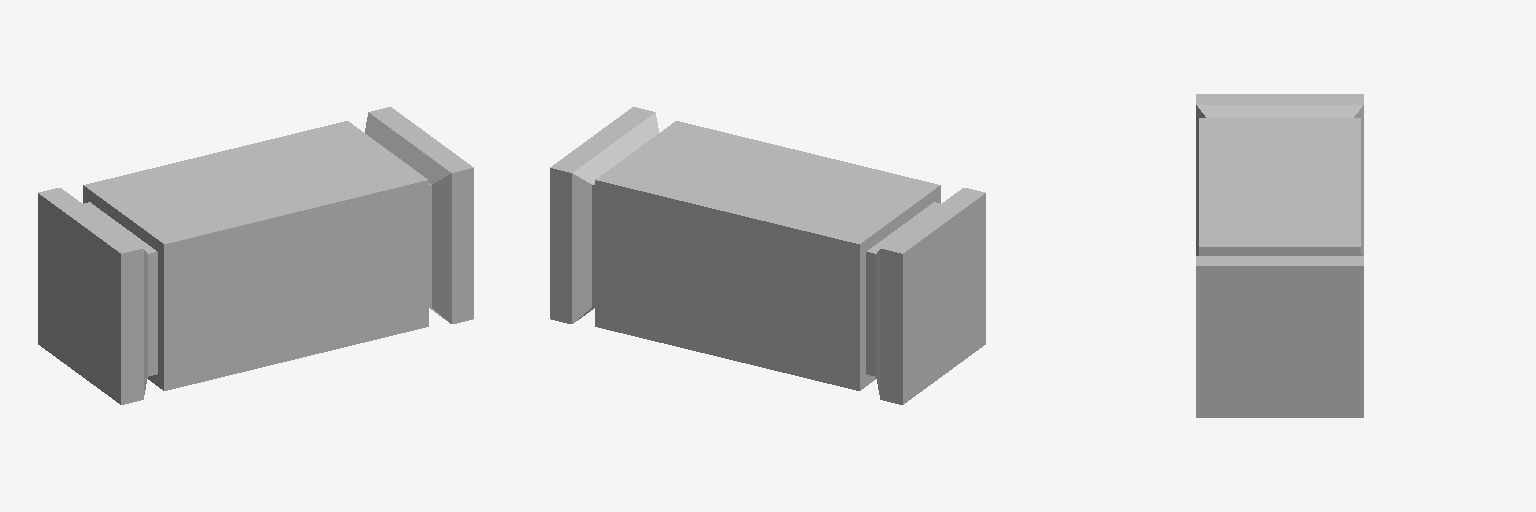
Rendered from hammer.obj.
3 renders of one model, left to right at view 1: azimuth 30°, elevation 25°; view 2: azimuth 150°, elevation 25°; view 3: azimuth 270°, elevation 25°, orthographic.
Visible parts, largest first — view 1: Cube; view 2: Cube; view 3: Cube.
Boxes of the visible parts, box(x1,y1,x2,y2) form: Cube: box(38, 107, 473, 404); Cube: box(550, 107, 985, 404); Cube: box(1196, 94, 1363, 417).
Size of the model in its own units: 5.03 by 2.06 by 2.06.